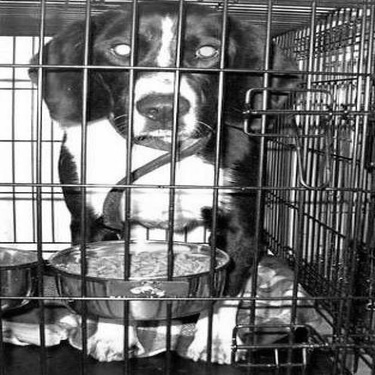dog: (21, 1, 299, 373)
